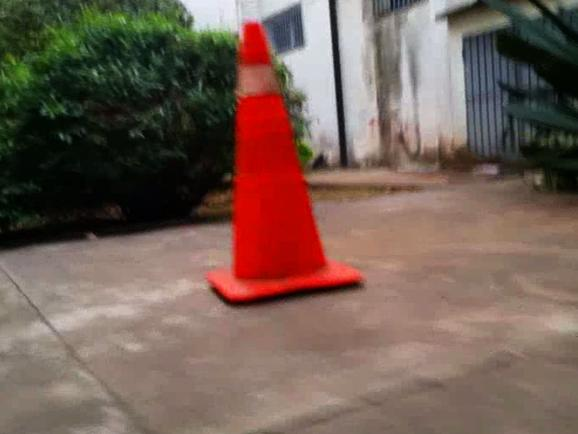0 cone: (206, 21, 362, 304)
